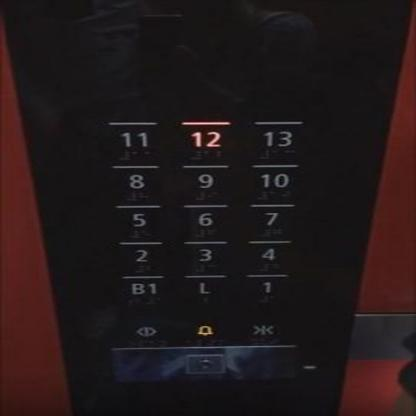1: (245, 275, 295, 305)
10: (249, 162, 300, 199)
11: (104, 120, 159, 157)
12: (179, 120, 233, 158)
13: (250, 119, 302, 157)
2: (113, 240, 166, 278)
3: (182, 240, 231, 275)
4: (247, 240, 296, 275)
5: (112, 203, 162, 238)
6: (179, 203, 233, 239)
7: (248, 202, 296, 237)
8: (108, 163, 160, 200)
9: (177, 162, 230, 200)
B1: (115, 274, 168, 309)
L: (178, 274, 230, 308)
alarm: (180, 317, 227, 345)
bt_keyhole: (180, 352, 226, 374)
close: (241, 317, 285, 346)
open: (121, 318, 168, 344)
